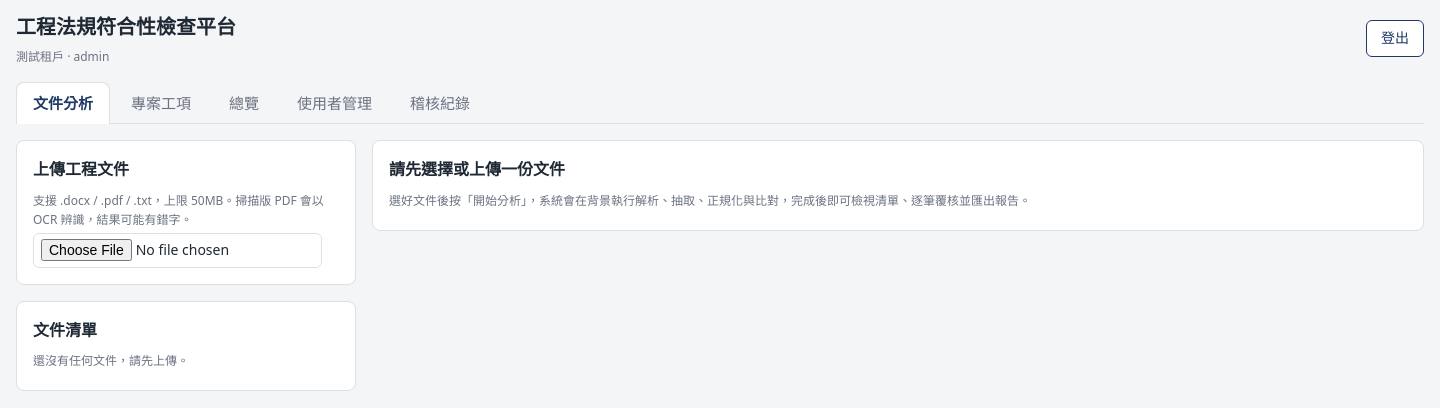
App › 可以切到專案工項，看到專案面板
Step 1. Click the button "專案工項" → (161, 103), box 114,82 -> 208,123
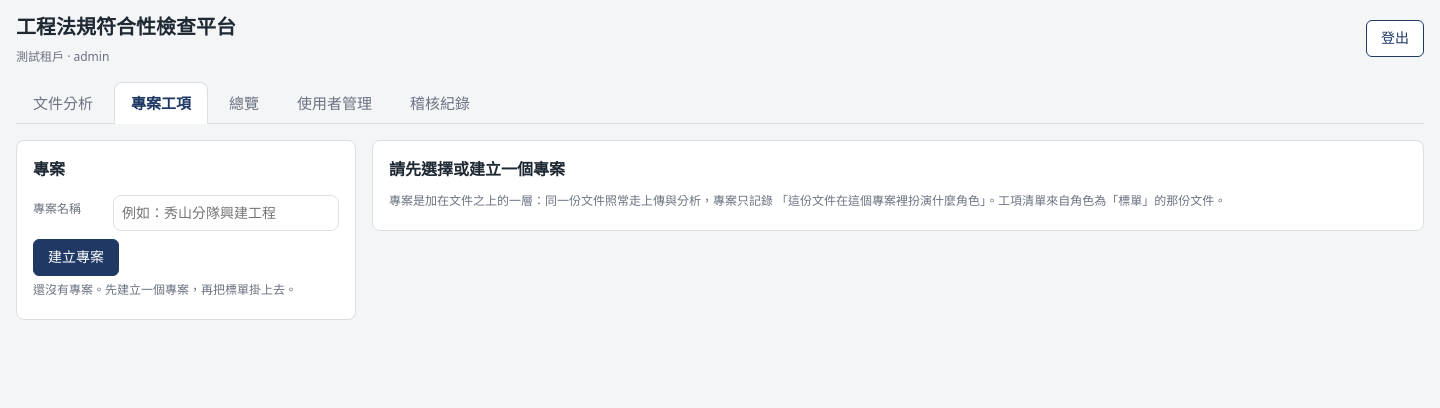
Check: the field labelled "專案名稱" is shown, box 113,195 -> 339,231
